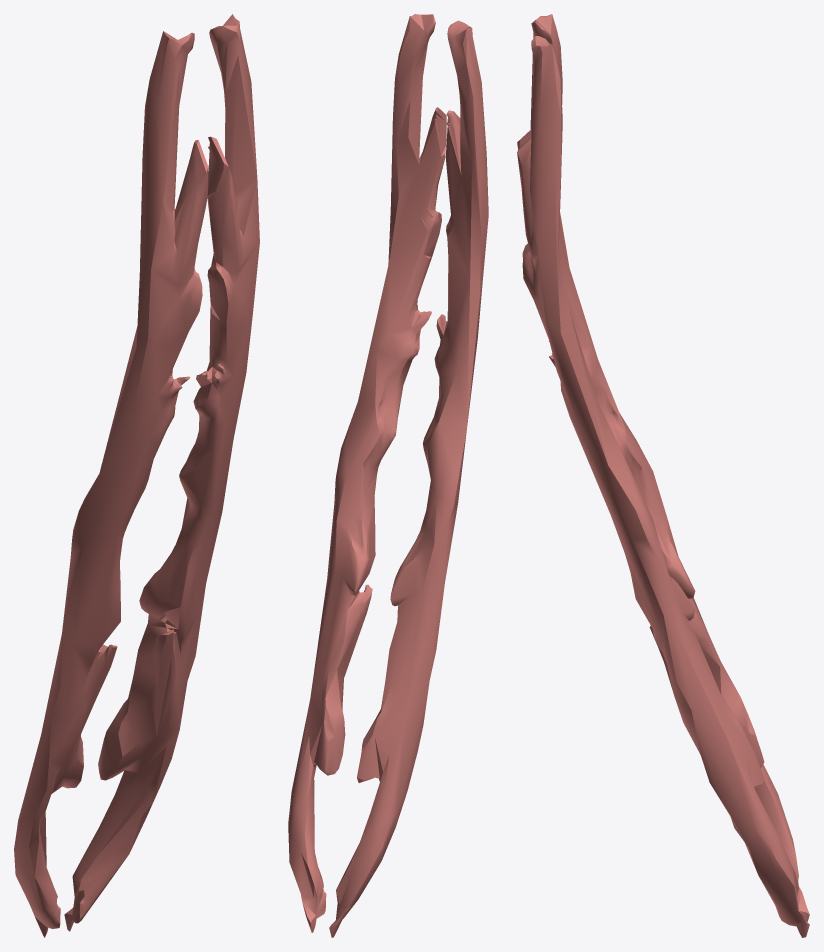
File: fma77179_cx239.glb
The picture shows the model from 3 angles, left to right: view 1: azimuth 30°, elevation 25°; view 2: azimuth 150°, elevation 25°; view 3: azimuth 270°, elevation 25°; orthographic projection. The views are drawn at different scales.
Parts seen in each view (by area): view 1: FMA77179_CX239; view 2: FMA77179_CX239; view 3: FMA77179_CX239.
Part boxes in pixels (x1,y1,x2,y2): FMA77179_CX239: (14,14,259,937); FMA77179_CX239: (288,14,488,937); FMA77179_CX239: (517,14,809,937).
Bounding box in the file's own units: 0.0158 × 0.1062 × 0.0312.
